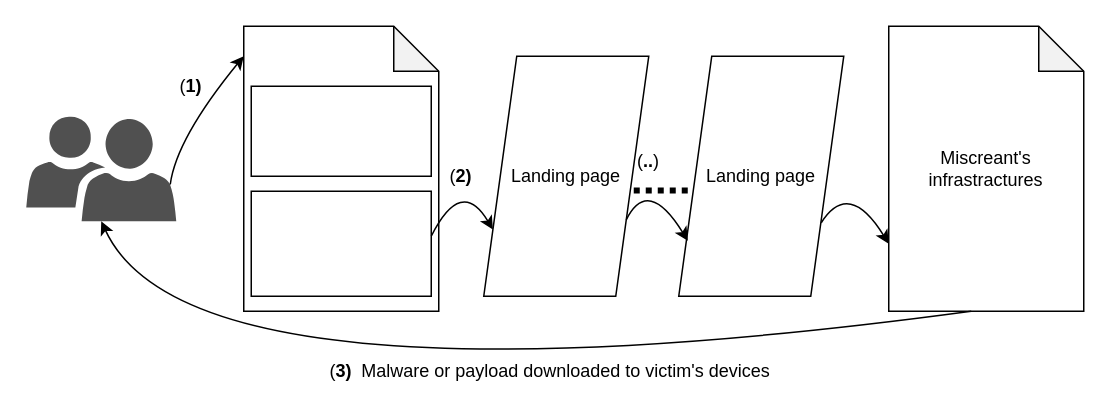
Image size: 1110x413. Some labels were removed from this diagram. The box of each missing label's shape, as (x1, y1, x2, y2) in pixels:
Legitimate content of the compromised page.: (250, 85, 431, 176)
malicious <iframe> inside a compromised webpage.: (250, 190, 431, 296)
